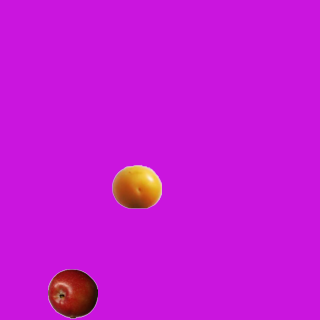Apple Braeburn: (47, 268, 97, 318)
Cherry Wax Yellow: (111, 161, 161, 211)
